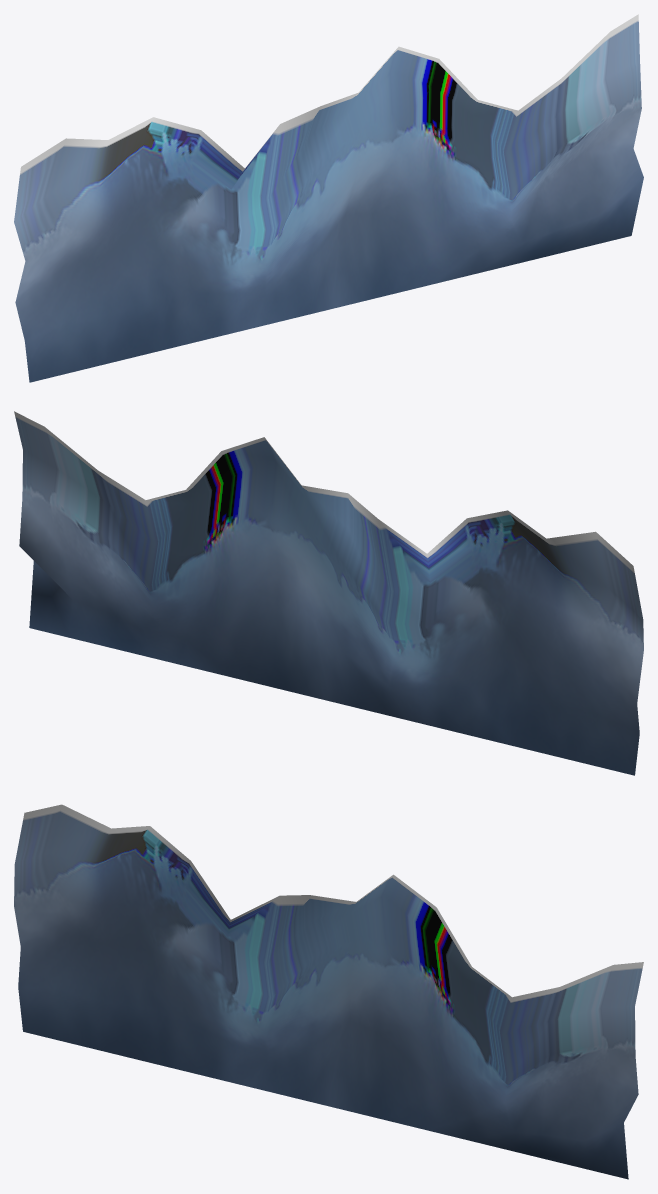
File: denglujiemian_yun01.FBX
3 views of the same model, one above another, from view 1: azimuth 30°, elevation 25°; view 2: azimuth 150°, elevation 25°; view 3: azimuth 330°, elevation 25° (orthographic).
Parts seen in each view (by area): view 1: Plane001; view 2: Plane001; view 3: Plane001.
Boxes of the visible parts, x1,y1,x2,y2 form: Plane001: (14, 14, 643, 382); Plane001: (14, 411, 643, 775); Plane001: (14, 804, 643, 1179).
Size of the model in its own units: 420 by 158 by 16.79.
1 material, 1 textured.
